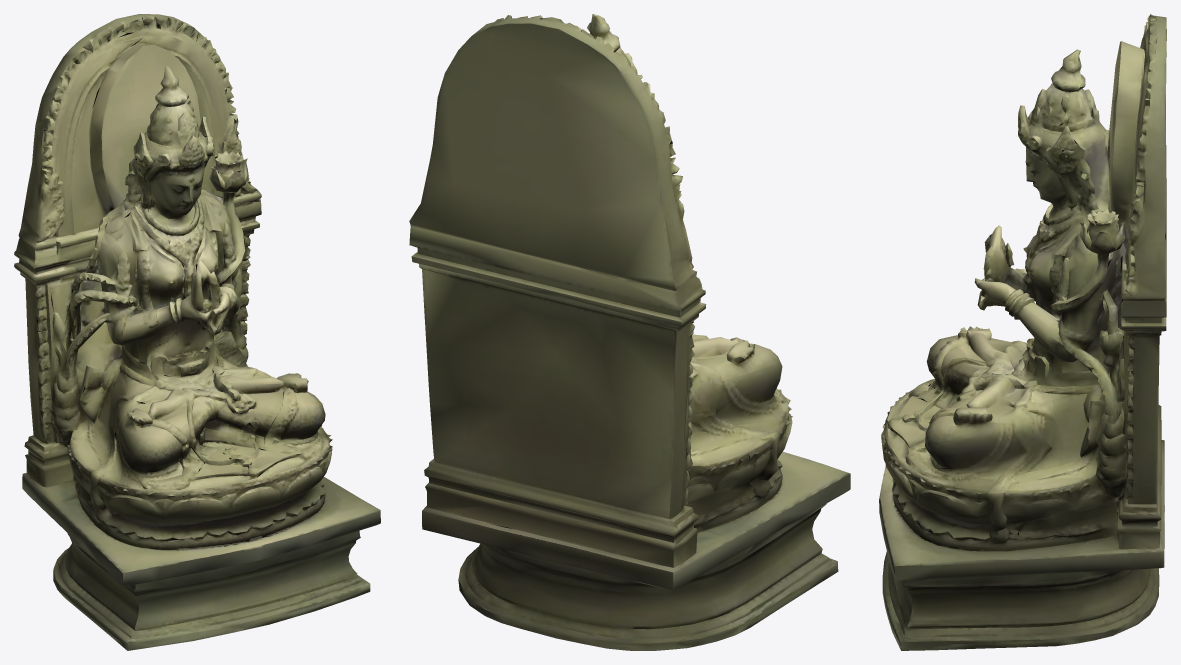
Rendered from prajnaparamita-ringan.glb.
3 renders of one model, left to right at view 1: azimuth 30°, elevation 25°; view 2: azimuth 150°, elevation 25°; view 3: azimuth 270°, elevation 25°, orthographic. The views are drawn at different scales.
Parts seen in each view (by area): view 1: SM_prajnaparamita_LOD1; view 2: SM_prajnaparamita_LOD1; view 3: SM_prajnaparamita_LOD1.
Part boxes in pixels (<box>): SM_prajnaparamita_LOD1: <box>14,14,380,650</box>; SM_prajnaparamita_LOD1: <box>409,14,850,650</box>; SM_prajnaparamita_LOD1: <box>879,14,1166,650</box>.
Size of the model in its own units: 0.6576 by 1.26 by 0.5867.
1 material, 1 textured.
